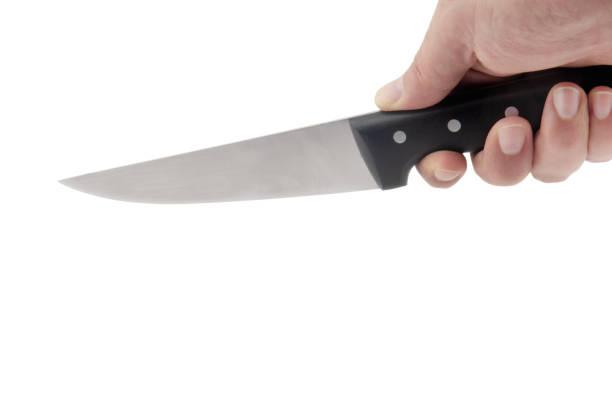knife: (58, 62, 612, 205)
